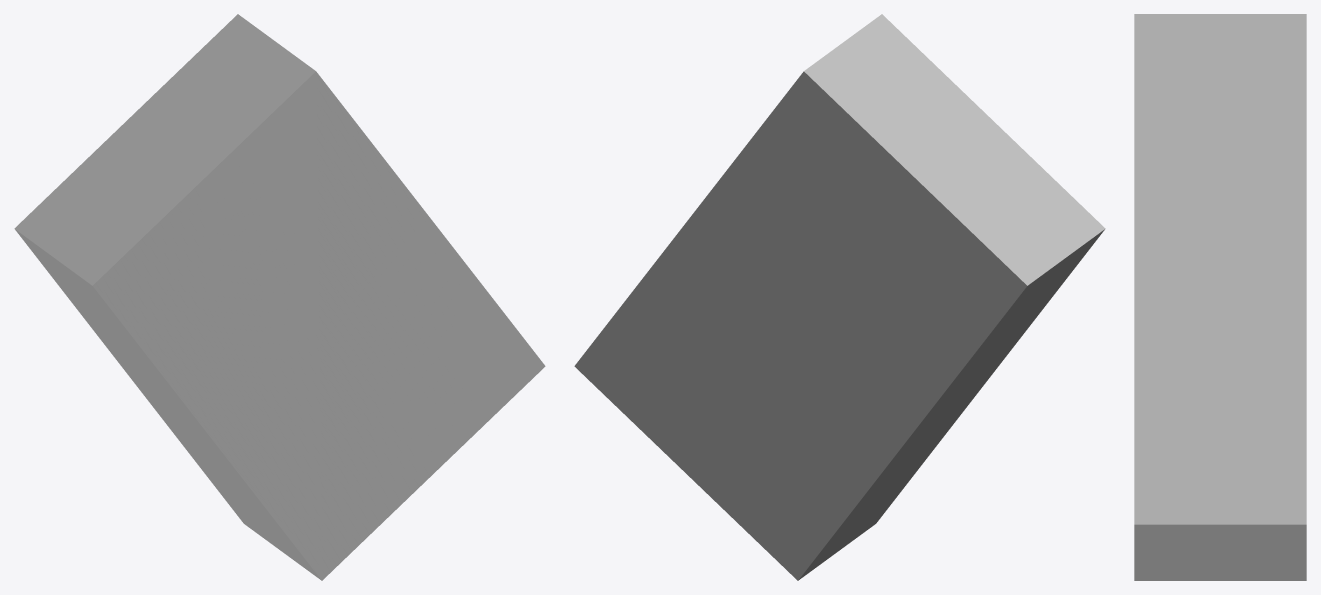
File: expected-selected.glb
3 renders of one model, left to right at view 1: azimuth 30°, elevation 25°; view 2: azimuth 150°, elevation 25°; view 3: azimuth 270°, elevation 25°, orthographic. The views are drawn at different scales.
Visible parts, largest first — view 1: Source mesh; view 2: Source mesh; view 3: Source mesh.
Part boxes in pixels (x1,y1,x2,y2): Source mesh: (14, 14, 545, 580); Source mesh: (574, 14, 1105, 580); Source mesh: (1134, 14, 1306, 580).
Size of the model in its own units: 3.34 by 3.61 by 1.
Materials: 2 (2 with a texture image).
